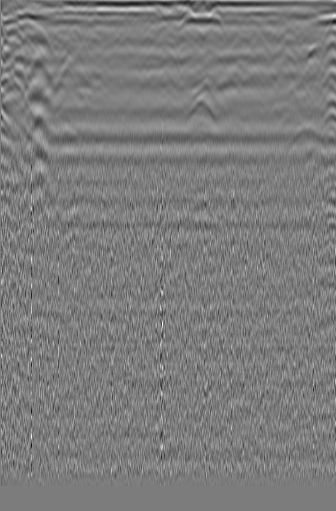상수: (299, 40, 326, 72)
오수: (2, 38, 37, 68)
우수: (148, 20, 178, 49)
